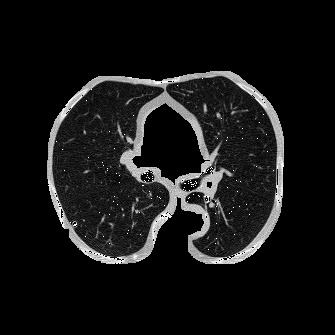PN: (72, 221, 78, 227)
